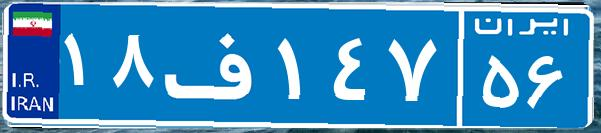1: (273, 28, 330, 110), (57, 26, 110, 107)
4: (330, 28, 385, 110)
5: (475, 38, 525, 113)
6: (525, 38, 570, 115)
7: (385, 28, 445, 110)
8: (110, 28, 158, 105)
ف: (158, 15, 273, 115)
